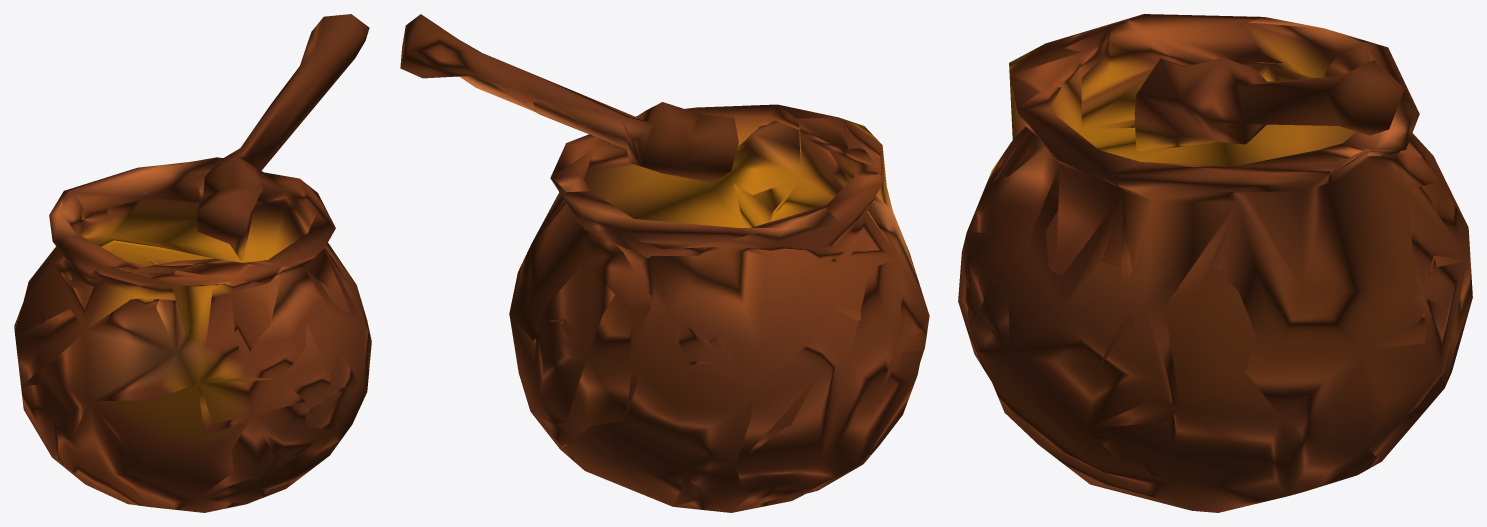
Rendered from gen3d-honey-pot-lod1.glb.
3 views of the same model, side by side, from view 1: azimuth 30°, elevation 25°; view 2: azimuth 150°, elevation 25°; view 3: azimuth 270°, elevation 25° (orthographic). The views are drawn at different scales.
Visible parts, largest first — view 1: part_0; view 2: part_0; view 3: part_0.
Boxes of the visible parts, x1,y1,x2,y2 form: part_0: [14, 14, 371, 512]; part_0: [400, 14, 929, 512]; part_0: [958, 14, 1472, 512].
Bounding box in the file's own units: 1.05 × 0.9948 × 0.8678.
